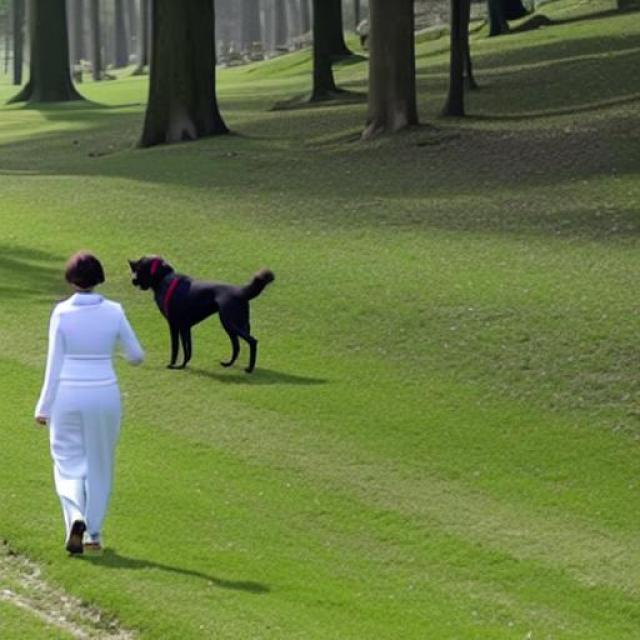Unleashed_Dog: (87, 255, 275, 374)
